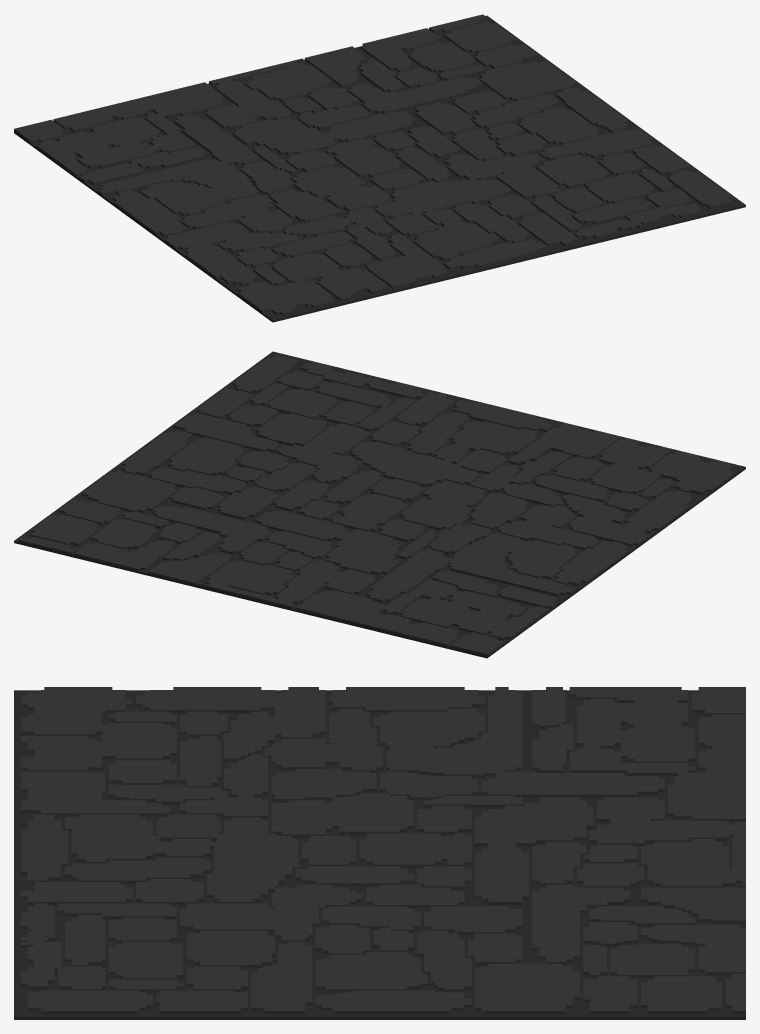
File: floor.glb
The picture shows the model from 3 angles, top to bottom: view 1: azimuth 30°, elevation 25°; view 2: azimuth 150°, elevation 25°; view 3: azimuth 270°, elevation 25°; orthographic projection. The views are drawn at different scales.
Visible parts, largest first — view 1: Untitled; view 2: Untitled; view 3: Untitled.
Part boxes in pixels (x1=…): Untitled: x1=14, y1=14, x2=745, y2=322; Untitled: x1=14, y1=351, x2=745, y2=658; Untitled: x1=14, y1=687, x2=745, y2=1019.
Bounding box in the file's own units: 22.8 × 0.2 × 21.6.
1 material, 1 textured.
